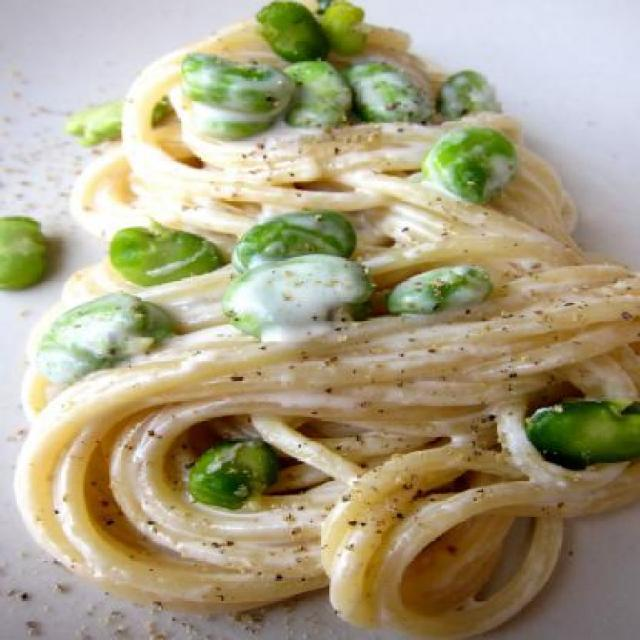Pasta with carbonara sauce: (18, 8, 640, 640)
